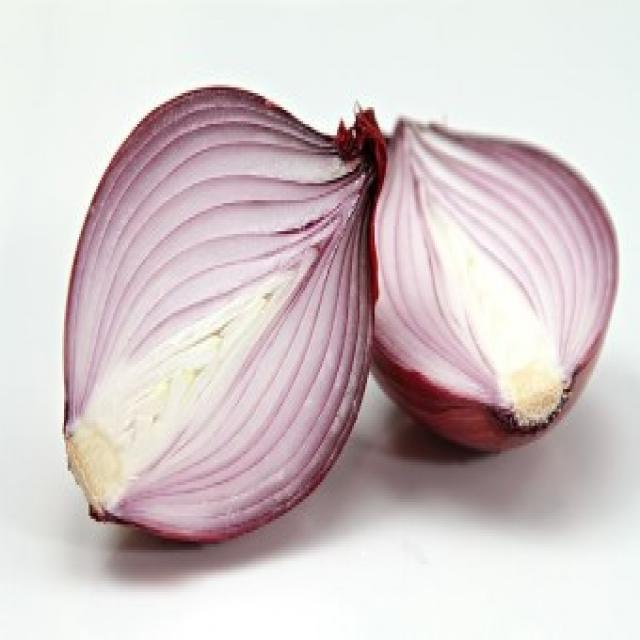onion: (55, 56, 376, 556), (381, 64, 631, 508)
